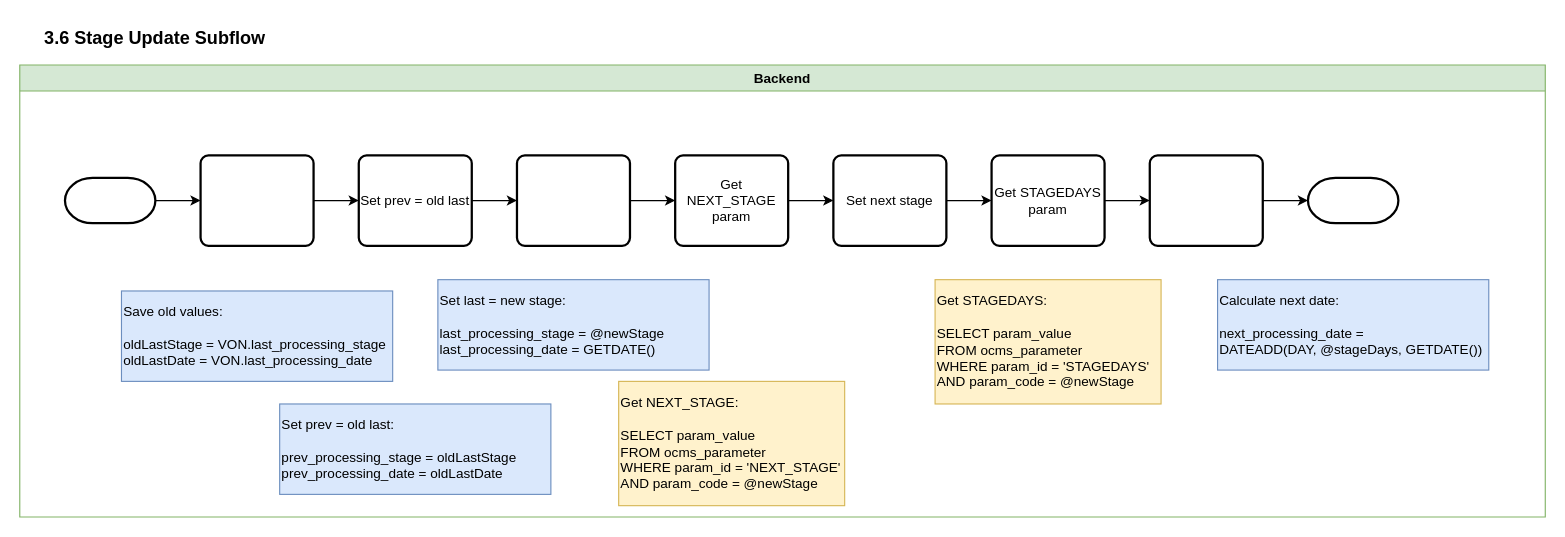
The diagram is 1565 pixels wide and 537 high, and some of its shapes have lost their labels. The shapes that lost their labels are listed below. From the top down, each one's centre as x and y in pixels, then its label:
At (109,200): "Start".
At (256,200): "Save old values".
At (573,200): "Set last = new stage".
At (1205,200): "Set next date".
At (1352,200): "Return".
